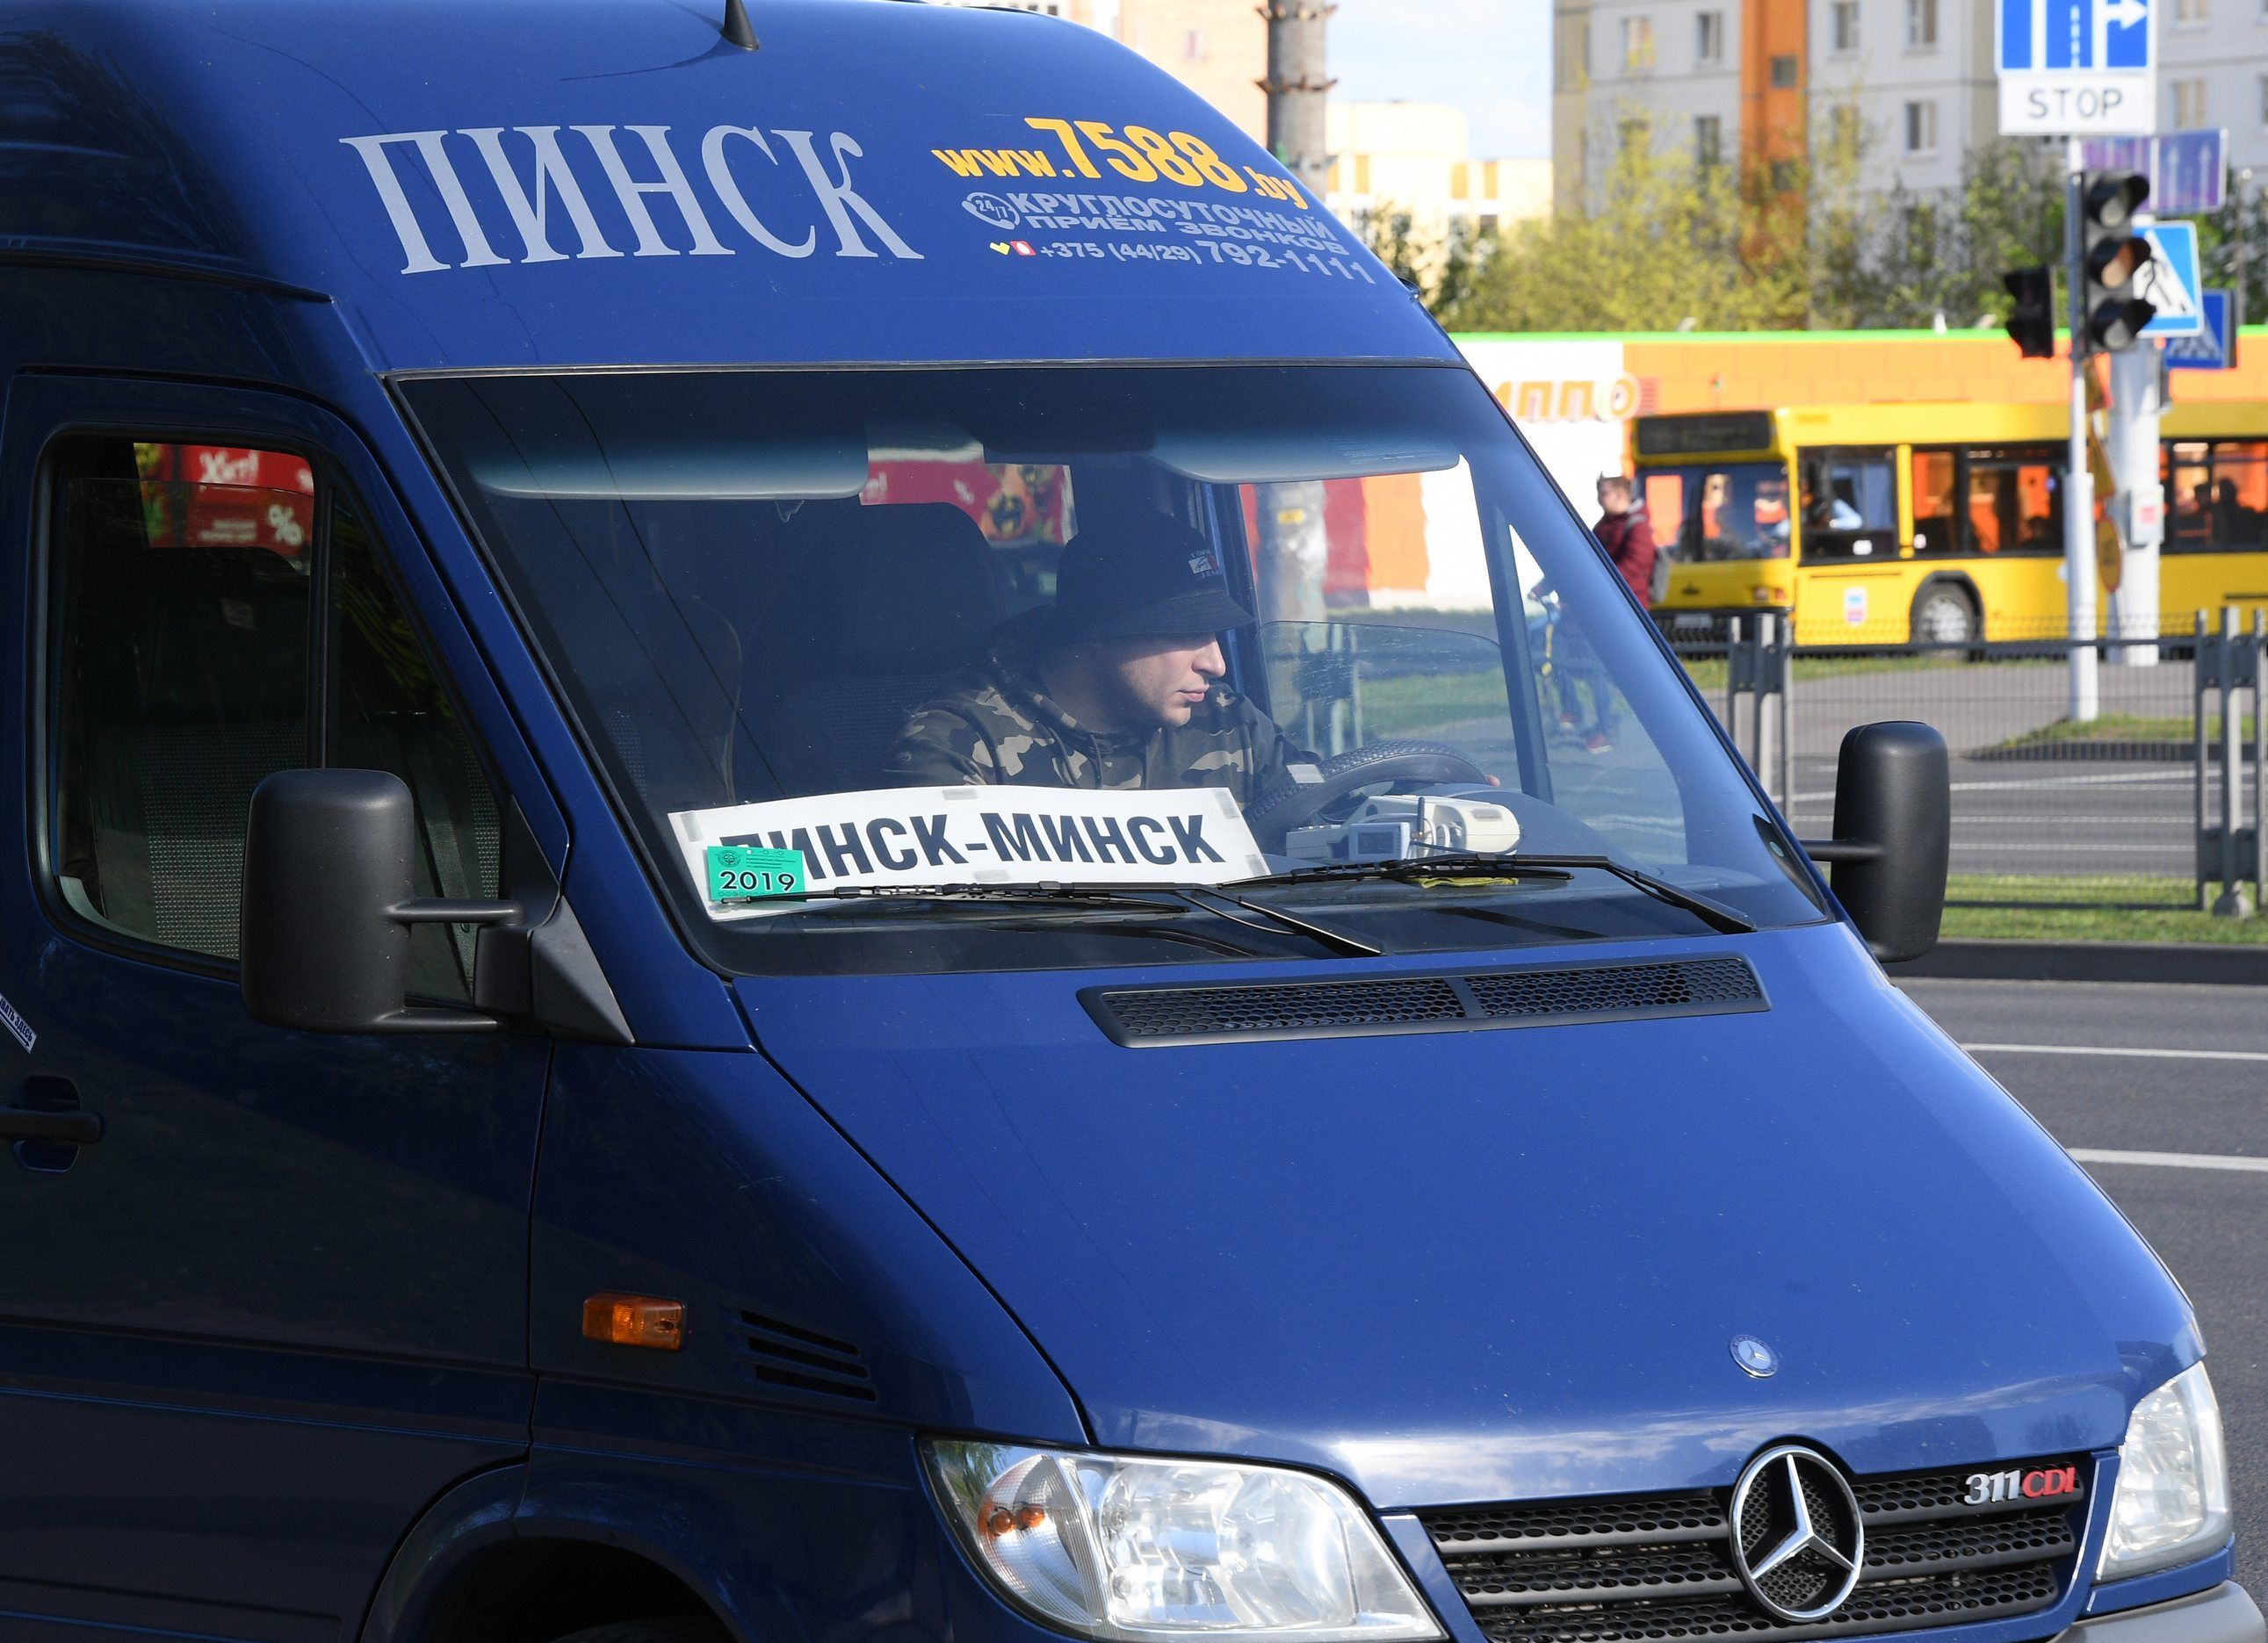bus: (1631, 380, 2268, 660)
van: (16, 12, 2259, 1643)
